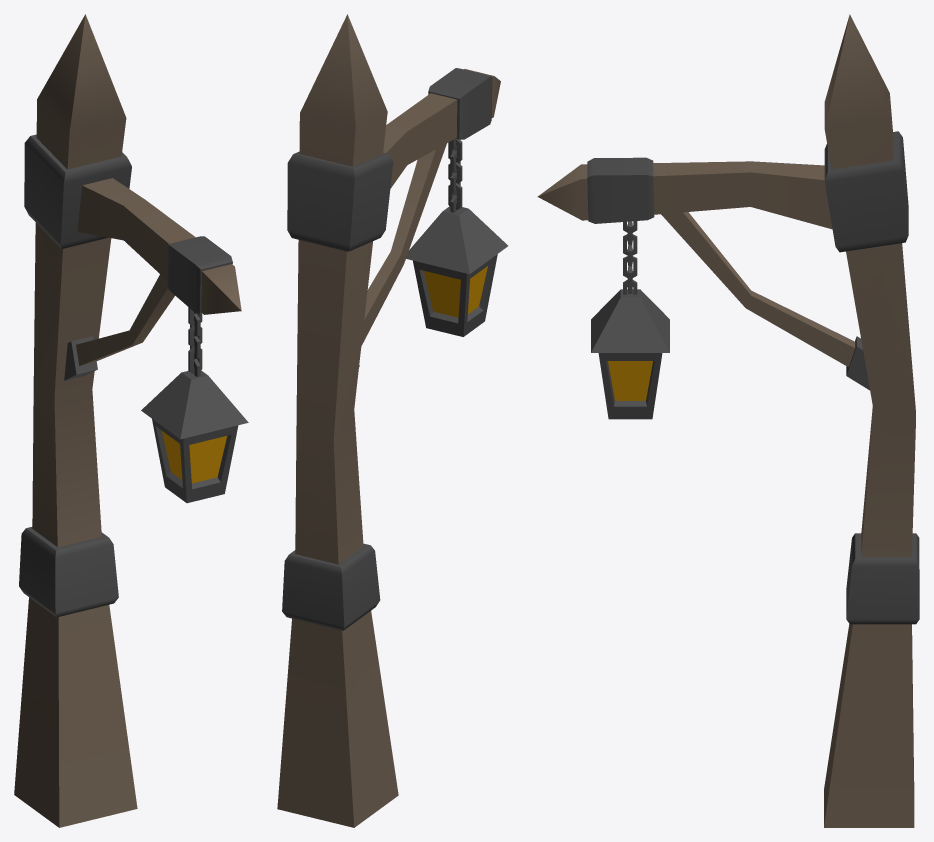
Rendered from LampPost_Mesh.fbx.
3 views of the same model, side by side, from view 1: azimuth 30°, elevation 25°; view 2: azimuth 150°, elevation 25°; view 3: azimuth 270°, elevation 25° (orthographic).
Visible parts, largest first — view 1: LampPost_Mesh; view 2: LampPost_Mesh; view 3: LampPost_Mesh.
Part boxes in pixels (x1,y1,x2,y2): LampPost_Mesh: [14, 14, 248, 827]; LampPost_Mesh: [277, 14, 507, 827]; LampPost_Mesh: [537, 14, 919, 827].
Bounding box in the file's own units: 36.47 × 354 × 154.
